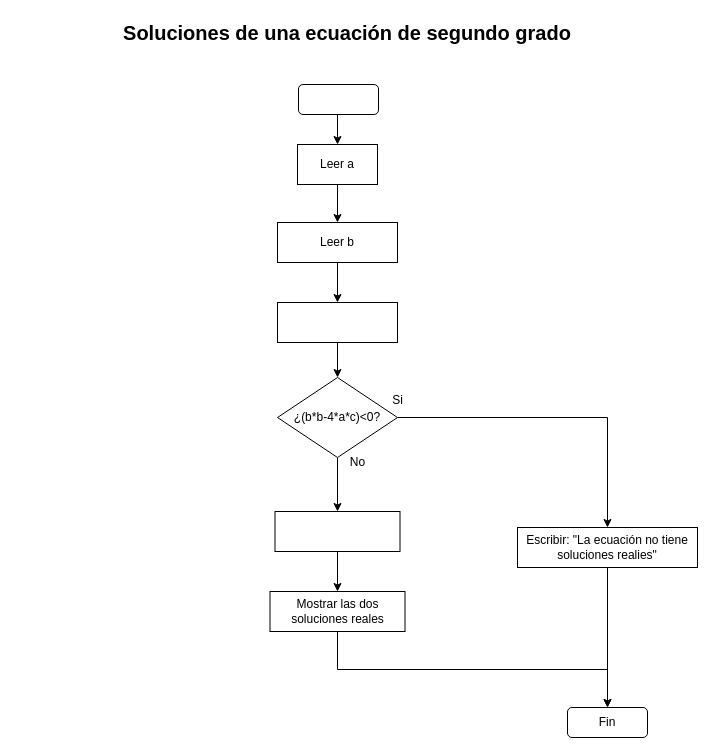
This 715x755 diagram has some shape labels left out. Each missing label, with the centre of its shape:
"Calcular las dos soluciones reales" goes at point 337,531.
"Inicio" goes at point 338,99.
"Leer c" goes at point 337,322.
